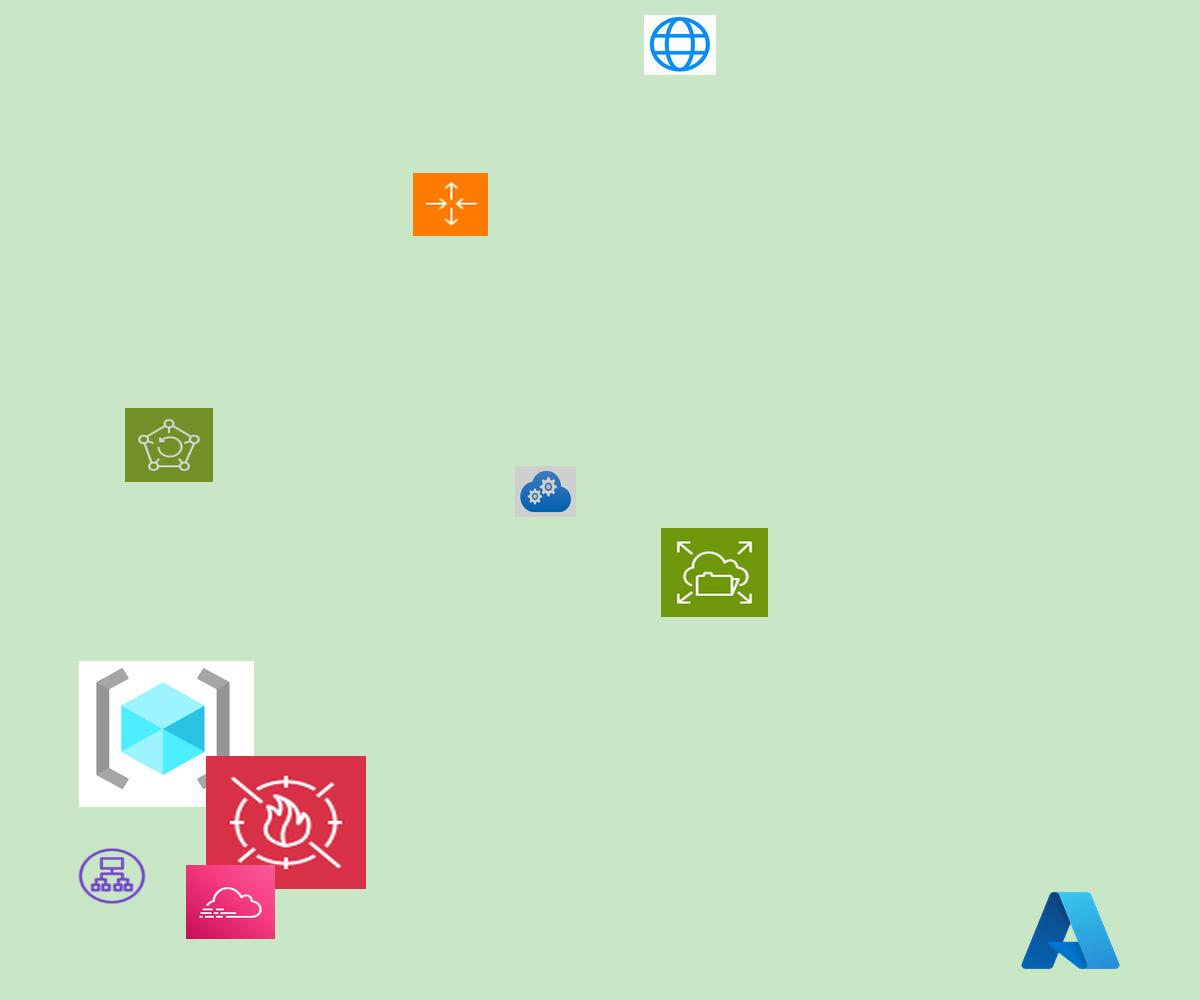AWS-Backup: (125, 408, 213, 482)
AWS-CloudTrail: (186, 865, 275, 939)
AWS-EFS: (661, 528, 768, 617)
AWS-Res_Elastic-Load-Balancing_Application-Load-Balancer: (76, 846, 148, 906)
AWS-Scaling-group: (413, 173, 488, 236)
AWS-WAF: (206, 756, 366, 889)
Azure_cloud_services: (515, 466, 576, 517)
Azure_http: (644, 15, 716, 75)
Azure_resource_group: (79, 661, 254, 807)
Azure_services: (1017, 886, 1124, 975)
